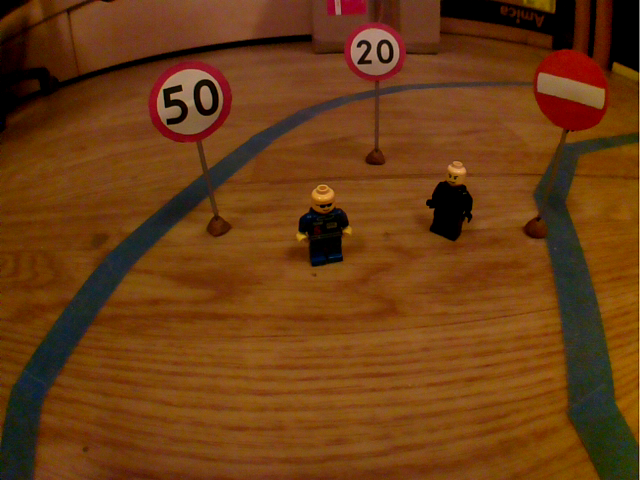Ograniczenie 20: (339, 19, 410, 86)
Ograniczenie 50: (146, 57, 235, 147)
Postac LEGO: (293, 181, 359, 273), (419, 157, 482, 248)
Zakaz: (528, 46, 612, 136)
